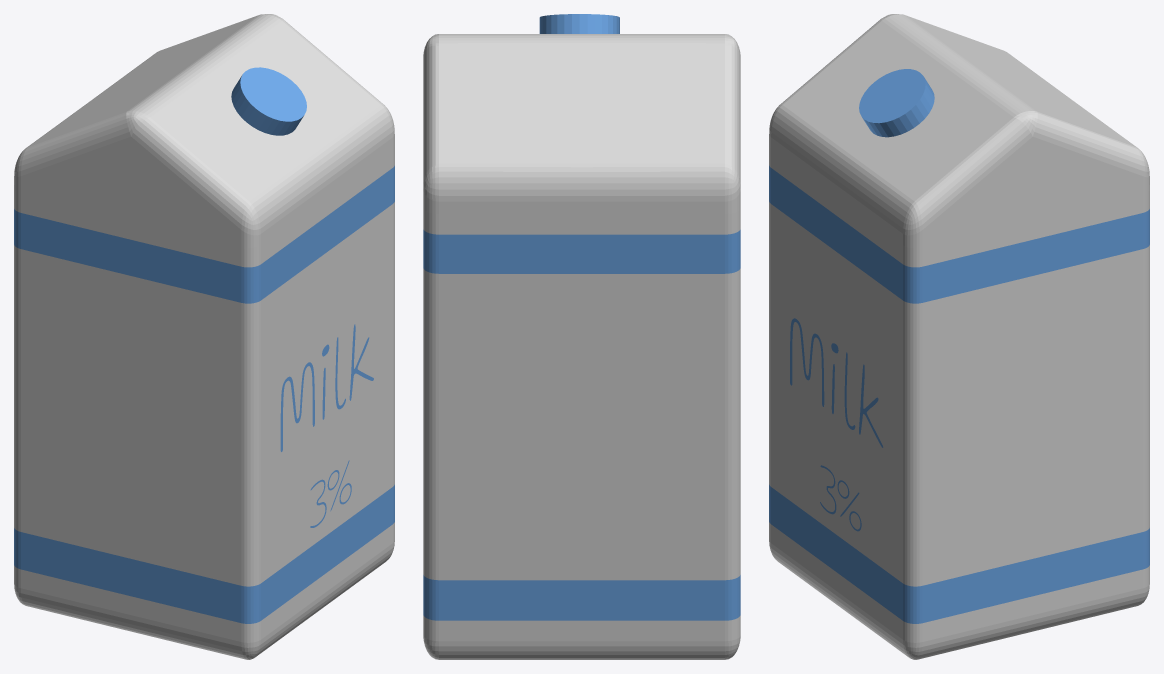
Rendered from Milk Carton.fbx.
3 views of the same model, side by side, from view 1: azimuth 30°, elevation 25°; view 2: azimuth 150°, elevation 25°; view 3: azimuth 270°, elevation 25° (orthographic). The views are drawn at different scales.
Parts seen in each view (by area): view 1: Sphere; view 2: Sphere; view 3: Sphere.
Boxes of the visible parts, x1,y1,x2,y2 form: Sphere: [14, 14, 394, 659]; Sphere: [423, 14, 740, 659]; Sphere: [769, 14, 1149, 659].
Bounding box in the file's own units: 125 × 187 × 123.
